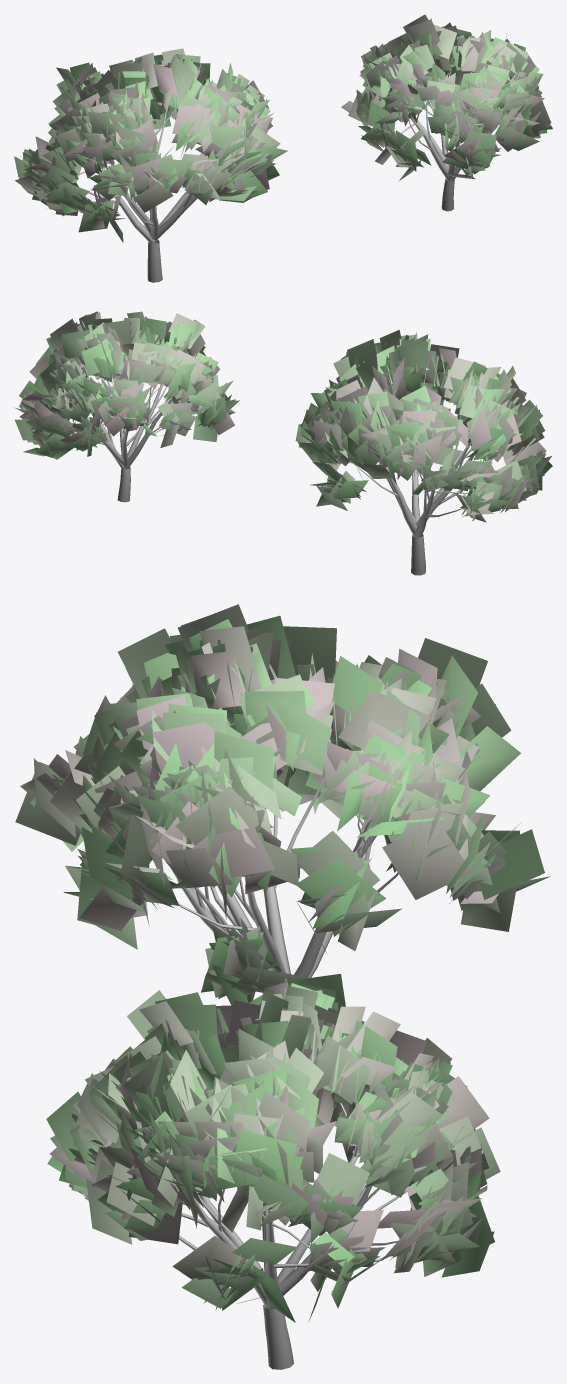
Rendered from Mango.fbx.
3 renders of one model, top to bottom at view 1: azimuth 30°, elevation 25°; view 2: azimuth 150°, elevation 25°; view 3: azimuth 270°, elevation 25°, orthographic. The views are drawn at different scales.
Visible parts, largest first — view 1: Mango_A_LOD0, Mango_B_LOD0; view 2: Mango_A_LOD0, Mango_B_LOD0; view 3: Mango_A_LOD0, Mango_B_LOD0.
Boxes of the visible parts, <box> form: Mango_A_LOD0: <box>14,48,287,282</box>; Mango_B_LOD0: <box>341,14,552,211</box>; Mango_A_LOD0: <box>295,329,552,575</box>; Mango_B_LOD0: <box>14,311,239,502</box>; Mango_A_LOD0: <box>15,604,550,1005</box>; Mango_B_LOD0: <box>46,973,500,1369</box>.
Size of what is drawn, in the model's own units: 26.95 by 10.94 by 12.36.
